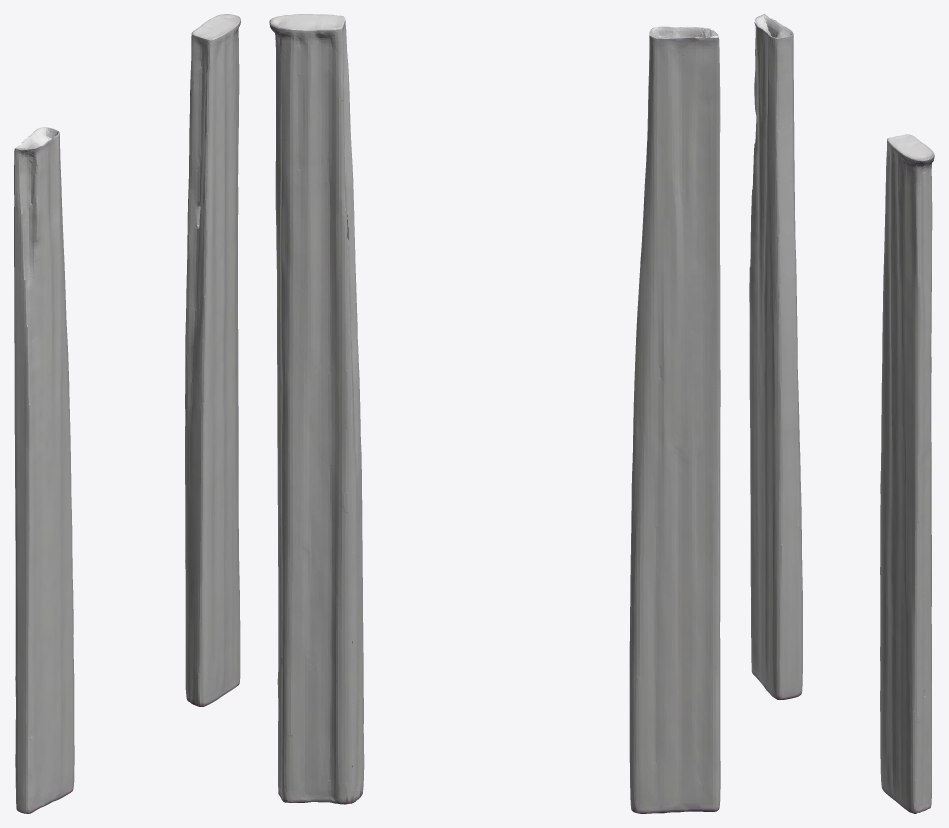
The model's file is white_curtains_on_middle_window_000.glb.
3 renders of one model, left to right at view 1: azimuth 30°, elevation 25°; view 2: azimuth 150°, elevation 25°; view 3: azimuth 270°, elevation 25°, orthographic. The views are drawn at different scales.
Visible parts, largest first — view 1: phase2_final_white_curtains_on_middle_window_000.obj; view 2: phase2_final_white_curtains_on_middle_window_000.obj; view 3: phase2_final_white_curtains_on_middle_window_000.obj.
Part boxes in pixels (x1,y1,x2,y2): phase2_final_white_curtains_on_middle_window_000.obj: (14, 14, 240, 813); phase2_final_white_curtains_on_middle_window_000.obj: (269, 14, 720, 813); phase2_final_white_curtains_on_middle_window_000.obj: (749, 14, 934, 813).
Size of the model in its own units: 0.5932 by 1.24 by 0.3161.
Materials: 1 (1 with a texture image).
